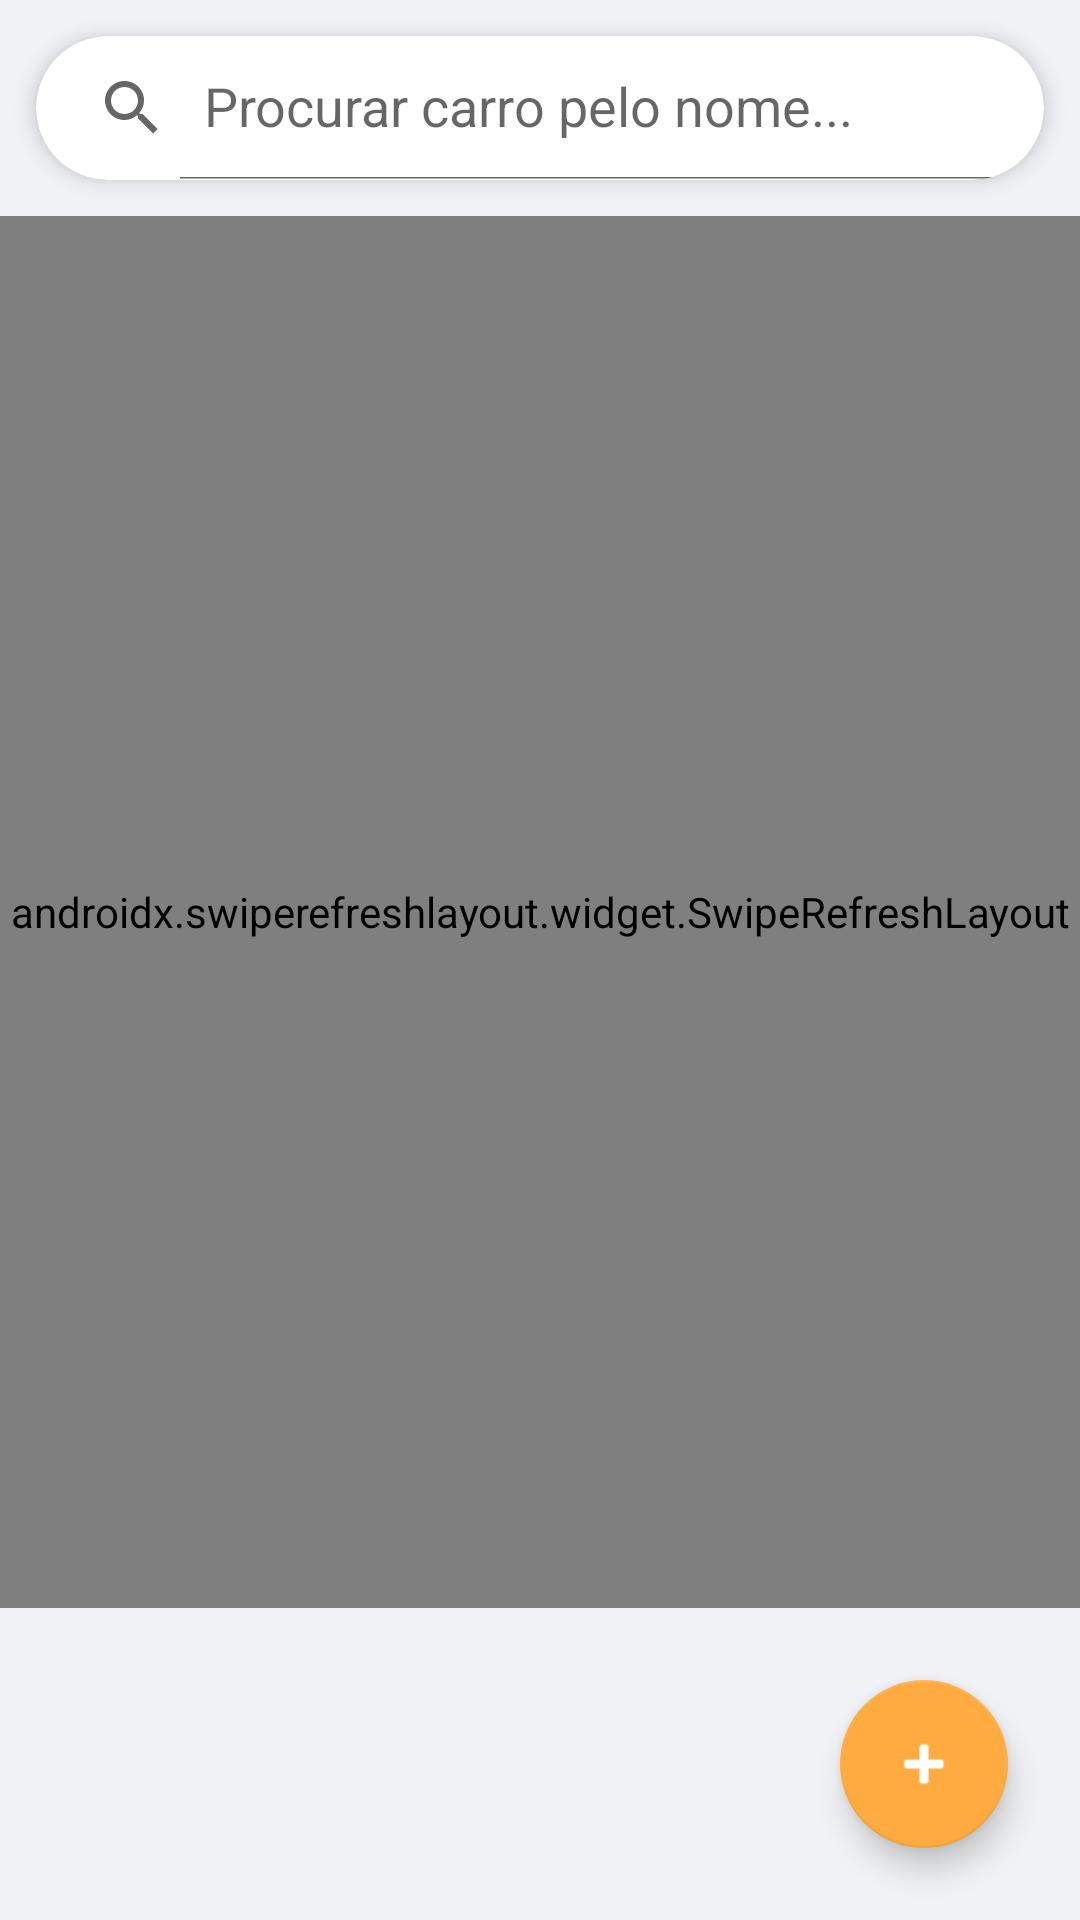

Icons on this 1080*1920 Android screen, each with the point to tap as point (x, y):
Add Car: point (924, 1764)
